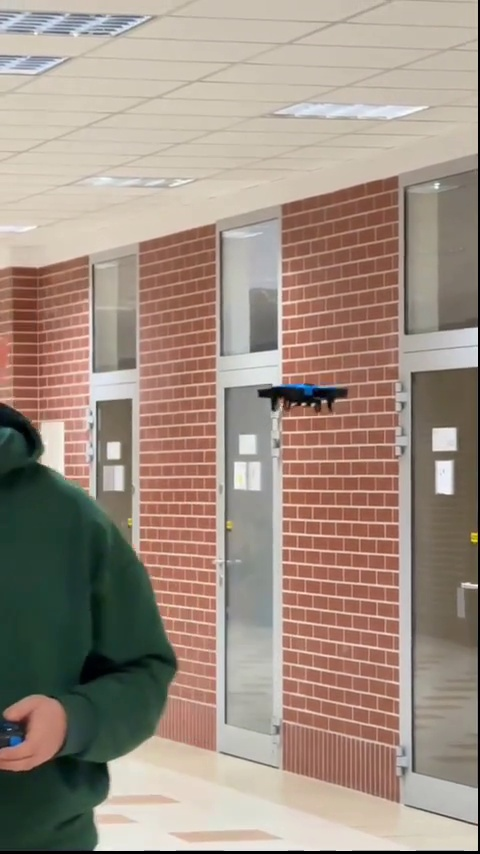drone: (256, 383, 348, 408)
no vest: (0, 333, 174, 853)
